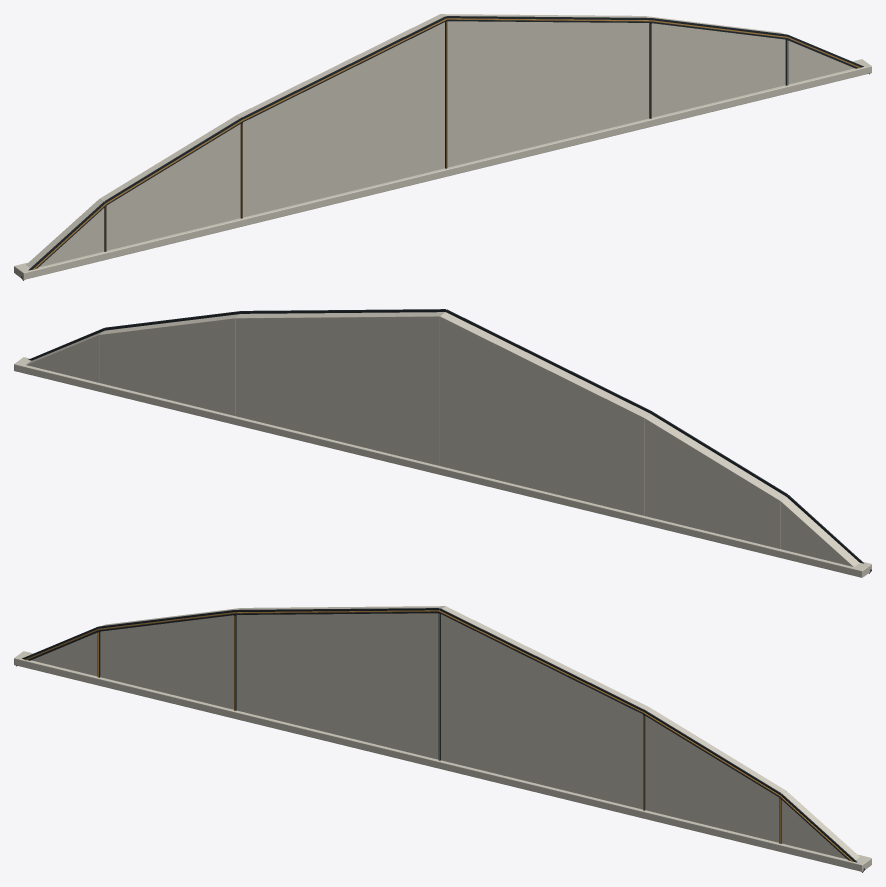
Rendered from SM_Aurelion_KIT_VaultTympanum_25m.fbx.
3 renders of one model, top to bottom at view 1: azimuth 30°, elevation 25°; view 2: azimuth 150°, elevation 25°; view 3: azimuth 330°, elevation 25°, orthographic.
Parts seen in each view (by area): view 1: SM_Aurelion_KIT_VaultTympanum_25m; view 2: SM_Aurelion_KIT_VaultTympanum_25m; view 3: SM_Aurelion_KIT_VaultTympanum_25m.
Boxes of the visible parts, x1,y1,x2,y2 form: SM_Aurelion_KIT_VaultTympanum_25m: [14, 14, 871, 280]; SM_Aurelion_KIT_VaultTympanum_25m: [14, 309, 871, 577]; SM_Aurelion_KIT_VaultTympanum_25m: [14, 606, 871, 872].
Bounding box in the file's own units: 2497 × 50 × 452.
